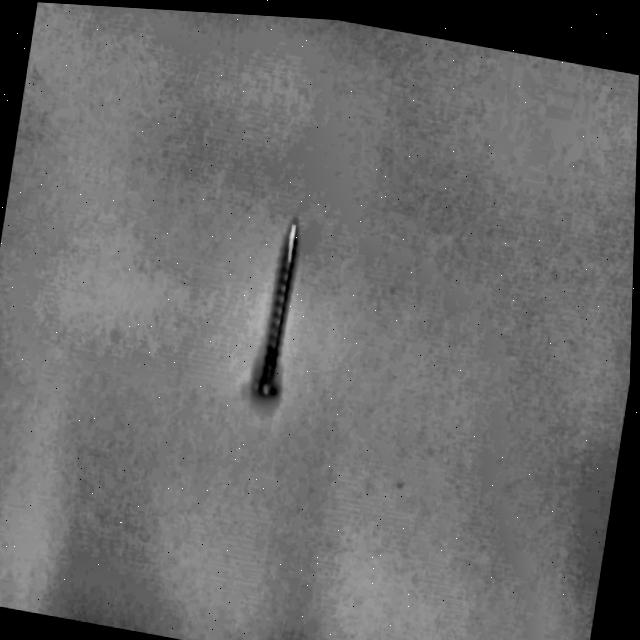Sheet metal screw: (256, 214, 304, 399)
